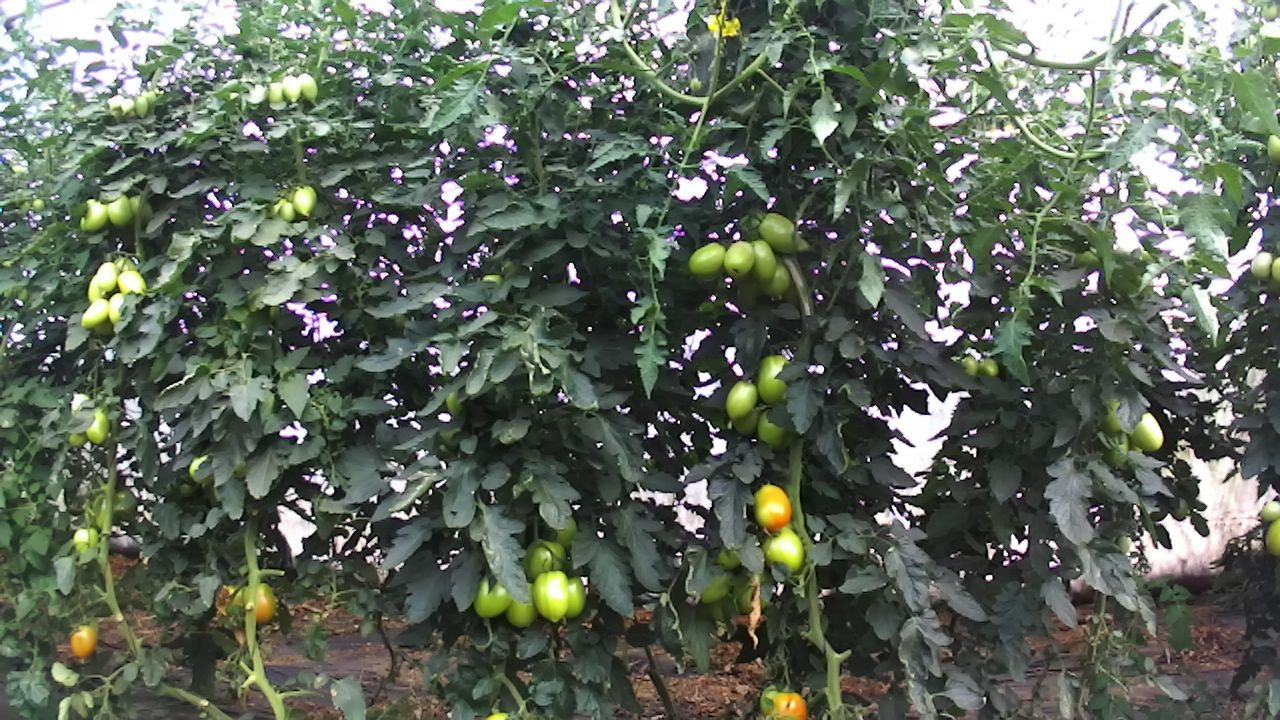tomato: (759, 523, 805, 575), (750, 481, 794, 534), (531, 569, 570, 625), (501, 579, 542, 631), (752, 353, 792, 406), (756, 210, 802, 256), (470, 574, 514, 620), (525, 537, 568, 579), (1127, 408, 1165, 455), (723, 377, 759, 423), (686, 240, 727, 278), (721, 238, 756, 279), (749, 237, 777, 284), (766, 689, 808, 720), (104, 191, 134, 231), (67, 621, 97, 659), (253, 581, 278, 626), (566, 572, 589, 620), (84, 406, 110, 446), (79, 296, 109, 329), (290, 184, 319, 218), (114, 269, 149, 297), (83, 200, 109, 235), (94, 258, 119, 293), (1248, 249, 1275, 281), (296, 71, 318, 104), (280, 74, 301, 103), (266, 79, 283, 105), (132, 94, 149, 119), (107, 92, 125, 112), (118, 96, 136, 116)
